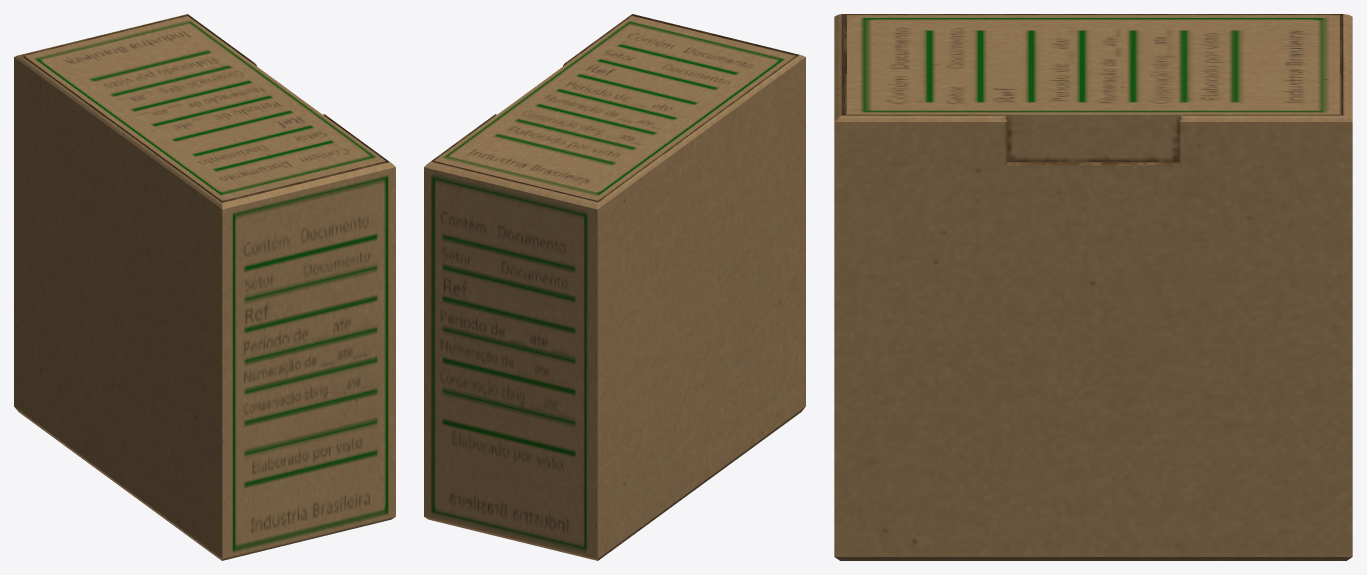
3 views of the same model, side by side, from view 1: azimuth 30°, elevation 25°; view 2: azimuth 150°, elevation 25°; view 3: azimuth 270°, elevation 25° (orthographic). The views are drawn at different scales.
Visible parts, largest first — view 1: Cube; view 2: Cube; view 3: Cube.
Boxes of the visible parts, left/top/right/bottom form: Cube: left=14, top=14, right=395, bottom=560; Cube: left=424, top=14, right=805, bottom=560; Cube: left=834, top=14, right=1352, bottom=560.
Size of the model in its own units: 21.14 by 41.63 by 43.98.
